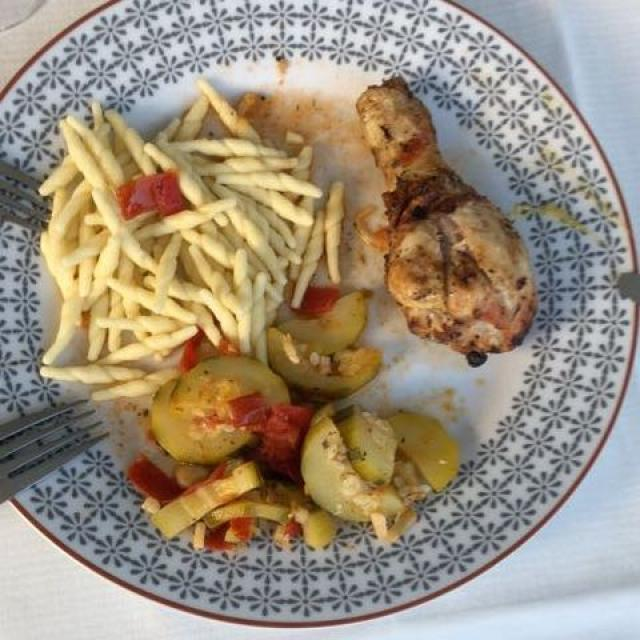chicken: (335, 64, 575, 405)
pasta: (20, 78, 369, 408)
ratatouille: (118, 283, 494, 576)
